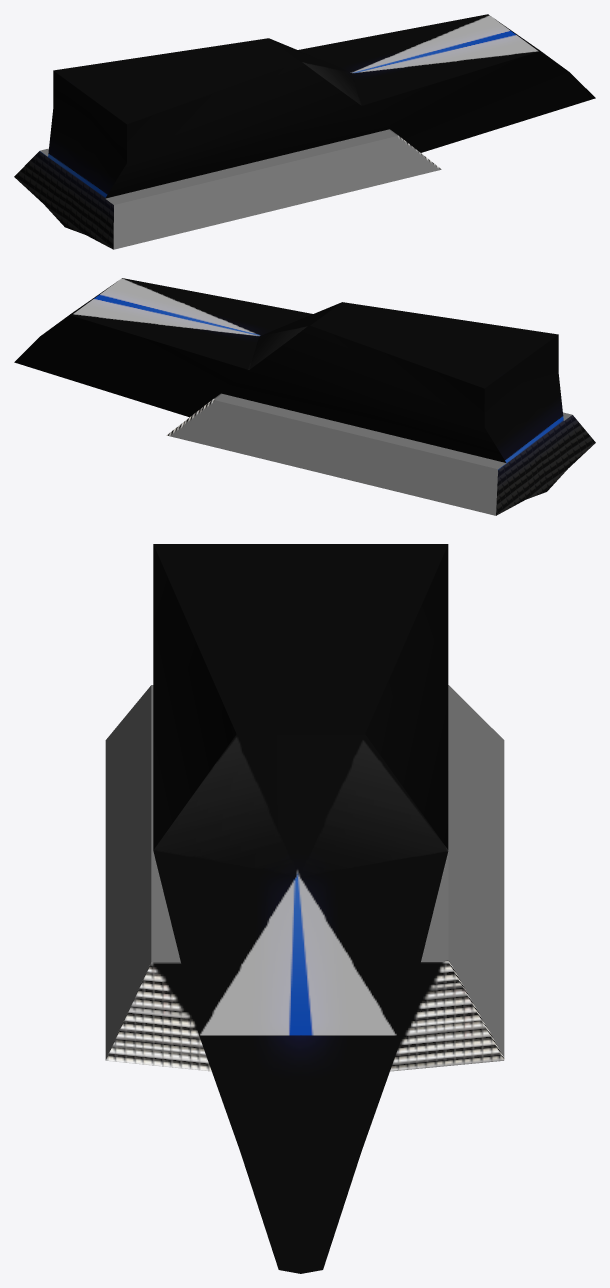
The model's file is enemyShip02.fbx.
3 views of the same model, one above another, from view 1: azimuth 30°, elevation 25°; view 2: azimuth 150°, elevation 25°; view 3: azimuth 270°, elevation 25° (orthographic). The views are drawn at different scales.
Visible parts, largest first — view 1: pCube1; view 2: pCube1; view 3: pCube1.
Boxes of the visible parts, x1,y1,x2,y2 form: pCube1: (14,14,595,249); pCube1: (14,278,595,515); pCube1: (105,544,504,1273).
Size of the model in its own units: 32.83 by 7.38 by 10.78.
Materials: 1 (1 with a texture image).
